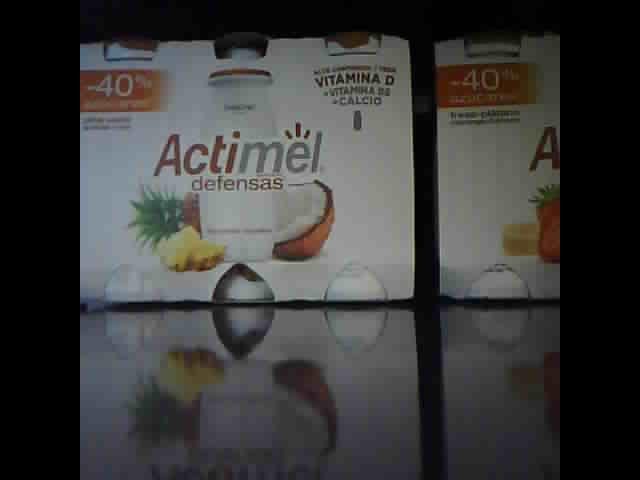actimel: (80, 30, 418, 311), (434, 33, 560, 304)
